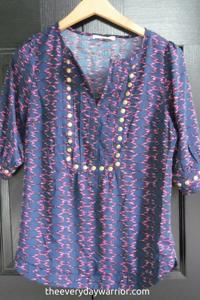C_blouse: (1, 18, 200, 295)
